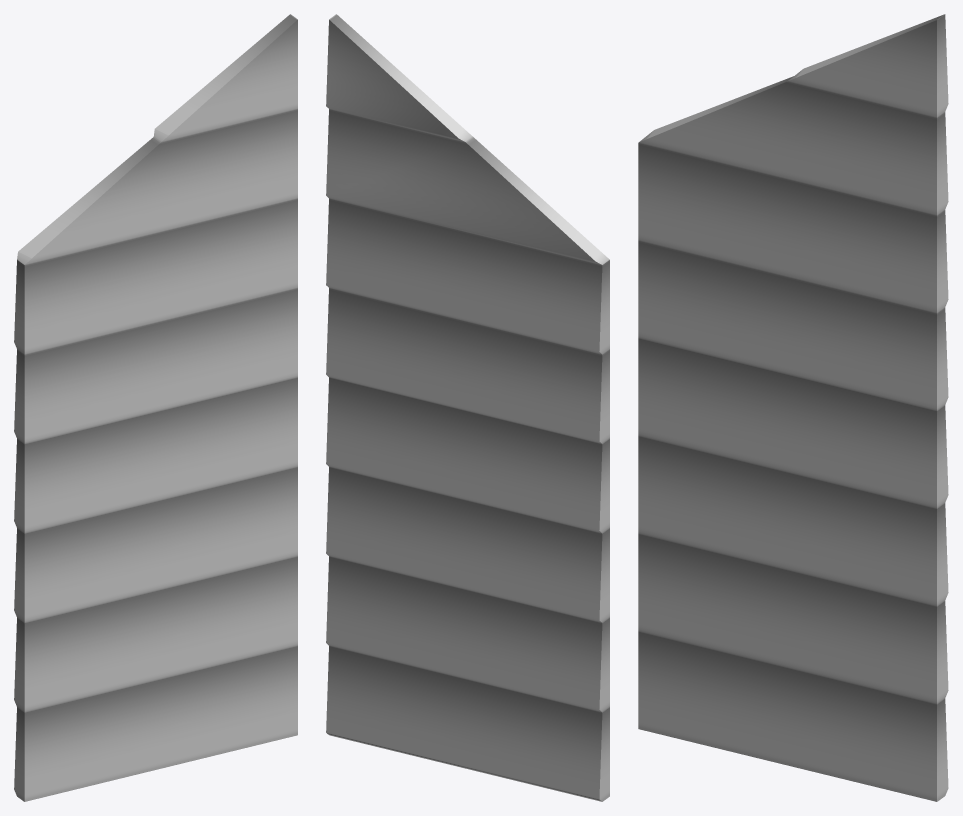
The model's file is Wall_Exterior_Angled_5.fbx.
The picture shows the model from 3 angles, left to right: view 1: azimuth 30°, elevation 25°; view 2: azimuth 150°, elevation 25°; view 3: azimuth 330°, elevation 25°; orthographic projection. The views are drawn at different scales.
Parts seen in each view (by area): view 1: Wall_Exterior_Angled_5; view 2: Wall_Exterior_Angled_5; view 3: Wall_Exterior_Angled_5.
Part boxes in pixels (<box>): Wall_Exterior_Angled_5: <box>14,14,297,801</box>; Wall_Exterior_Angled_5: <box>326,14,609,801</box>; Wall_Exterior_Angled_5: <box>638,14,948,801</box>.
Size of the model in its own units: 1 by 2.5 by 0.066.
